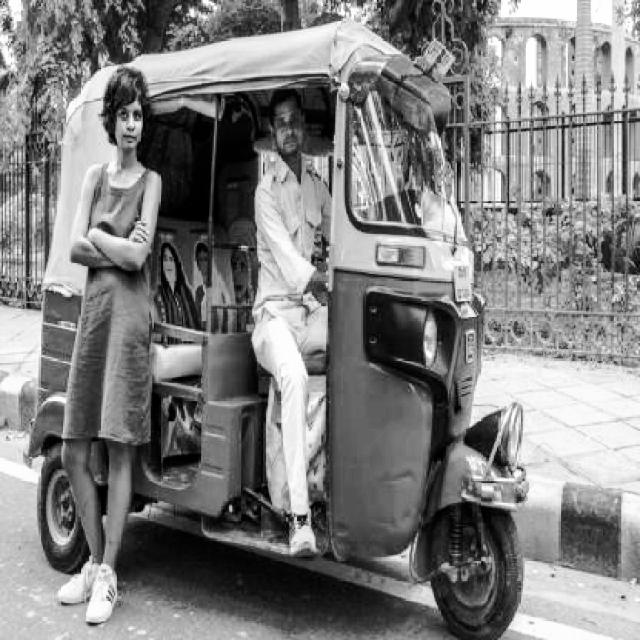Auto-Rickshaw: (25, 29, 526, 640)
